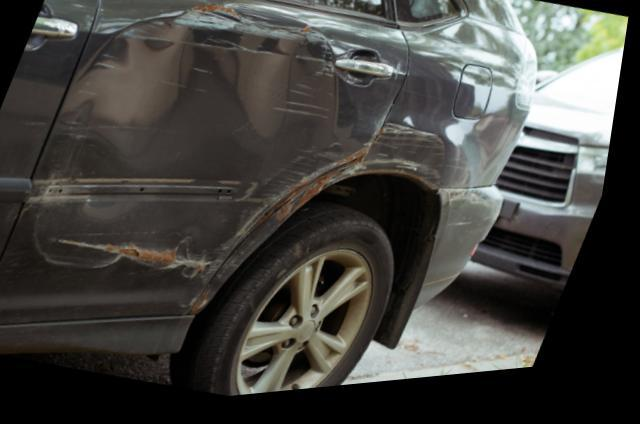dent: (39, 8, 364, 276)
scratch: (372, 132, 454, 196)
